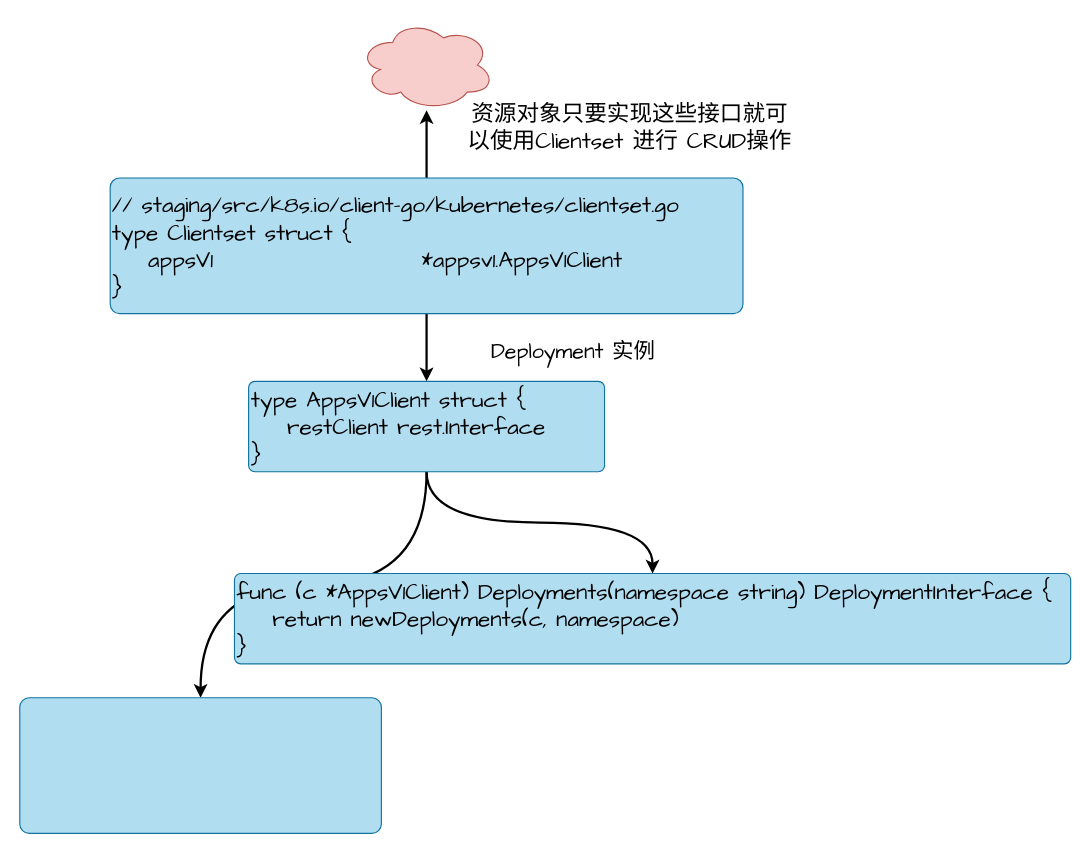
Some shapes in this 1090 by 853 pixel diagram are drawn without their labels. Here are the shapes that lost their labels. From the top down, the centre of each, then its label:
the point at 426,64: Clientset
the point at 200,765: type Interface interface { Verb(verb string) *Request Post() *Request }
